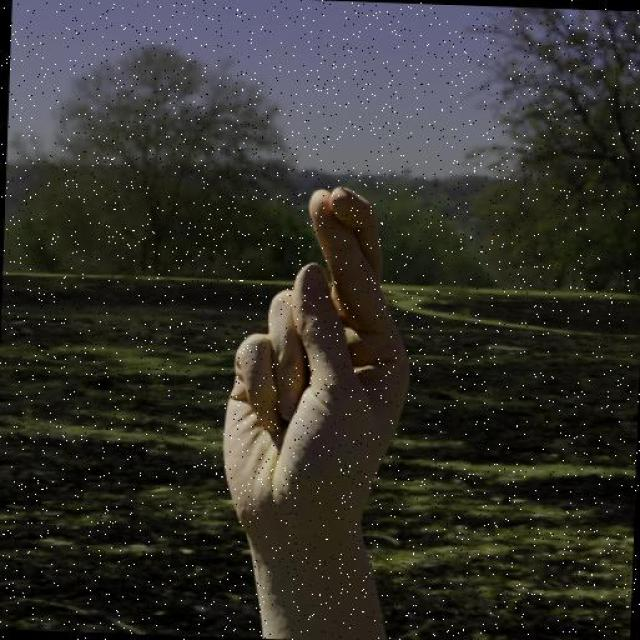R: (211, 176, 422, 566)
